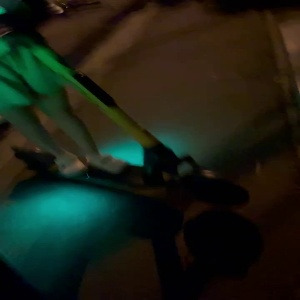human on a scooter: (1, 1, 267, 263)
